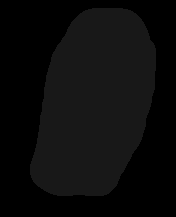fp: (16, 8, 165, 202)
